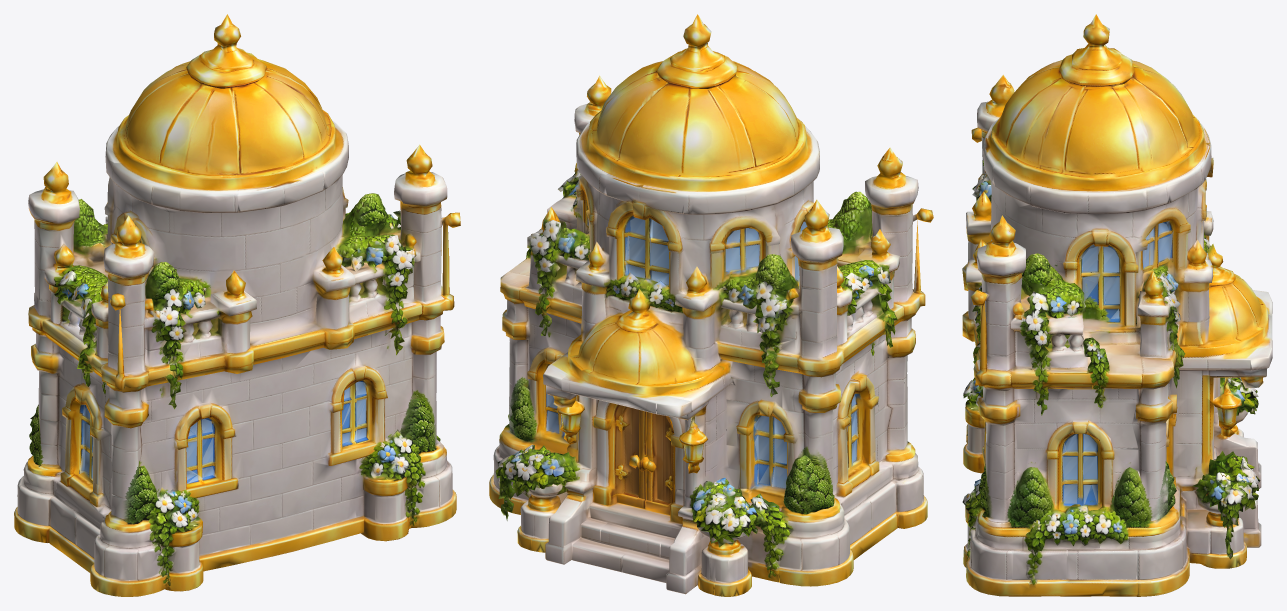
Rendered from HaloDomeHouse_08_parts.glb.
3 renders of one model, left to right at view 1: azimuth 30°, elevation 25°; view 2: azimuth 150°, elevation 25°; view 3: azimuth 270°, elevation 25°, orthographic.
Visible parts, largest first — view 1: HaloDomeHouse_08_Body_t00, HaloDomeHouse_08_Body_t11, HaloDomeHouse_08_Body_t01, HaloDomeHouse_08_Body_t10, HaloDomeHouse_08_Glass, HaloDomeHouse_08_WinPane; view 2: HaloDomeHouse_08_Body_t11, HaloDomeHouse_08_Body_t00, HaloDomeHouse_08_Body_t10, HaloDomeHouse_08_Body_t01, HaloDomeHouse_08_Glass, HaloDomeHouse_08_WinPane, HaloDomeHouse_08_Door, HaloDomeHouse_08_DoorHw; view 3: HaloDomeHouse_08_Body_t10, HaloDomeHouse_08_Body_t01, HaloDomeHouse_08_Body_t00, HaloDomeHouse_08_Body_t11, HaloDomeHouse_08_WinPane, HaloDomeHouse_08_Glass.
Boxes of the visible parts, x1=… form: HaloDomeHouse_08_Body_t00: x1=23, y1=53, x2=448, y2=596; HaloDomeHouse_08_Body_t11: x1=14, y1=33, x2=449, y2=596; HaloDomeHouse_08_Body_t01: x1=17, y1=60, x2=460, y2=556; HaloDomeHouse_08_Body_t10: x1=20, y1=14, x2=447, y2=591; HaloDomeHouse_08_Glass: x1=79, y1=381, x2=366, y2=483; HaloDomeHouse_08_WinPane: x1=79, y1=381, x2=366, y2=483; HaloDomeHouse_08_Body_t11: x1=489, y1=32, x2=933, y2=596; HaloDomeHouse_08_Body_t00: x1=495, y1=52, x2=933, y2=596; HaloDomeHouse_08_Body_t10: x1=497, y1=14, x2=918, y2=594; HaloDomeHouse_08_Body_t01: x1=493, y1=51, x2=920, y2=582; HaloDomeHouse_08_Glass: x1=546, y1=218, x2=858, y2=488; HaloDomeHouse_08_WinPane: x1=546, y1=218, x2=858, y2=487; HaloDomeHouse_08_Door: x1=624, y1=407, x2=709, y2=505; HaloDomeHouse_08_DoorHw: x1=618, y1=410, x2=675, y2=509; HaloDomeHouse_08_Body_t10: x1=962, y1=14, x2=1272, y2=582; HaloDomeHouse_08_Body_t01: x1=962, y1=48, x2=1272, y2=596; HaloDomeHouse_08_Body_t00: x1=962, y1=60, x2=1267, y2=596; HaloDomeHouse_08_Body_t11: x1=962, y1=44, x2=1272, y2=595; HaloDomeHouse_08_WinPane: x1=1061, y1=221, x2=1173, y2=505; HaloDomeHouse_08_Glass: x1=1062, y1=220, x2=1173, y2=504.
Size of the model in its own units: 29.67 by 39.48 by 22.19.
8 materials, 7 textured.
